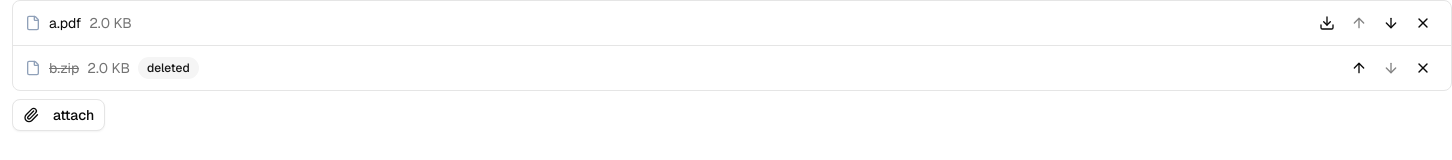
Test case: EvidenceFilesField › marks a deleted file, reorders and removes attachments
The image size is (1452, 160).
Expected: the text "deleted" is shown, [138,57,199,79]
Expected: the number of buttons named "download" is 1, [1311,7,1343,39]
Click the button named "moveUp" in the row of "b.zip" at (1359, 68), box [1343,52,1375,84]
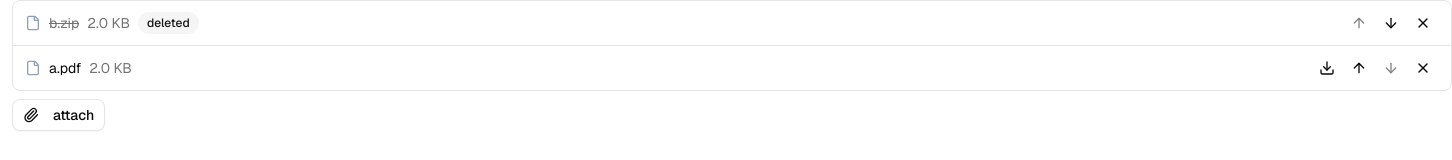
Click the button named "remove b.zip" at (1423, 23), box [1407,7,1439,39]
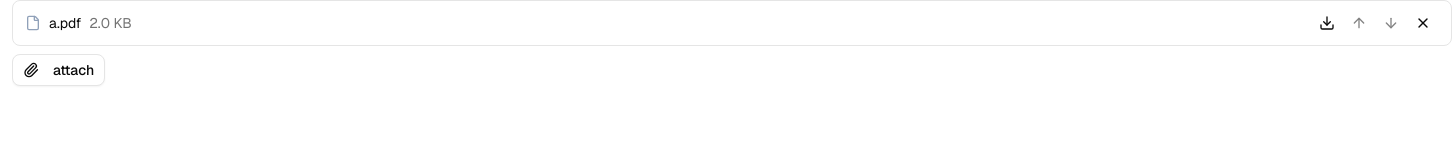
Now the text "b.zip" is gone
